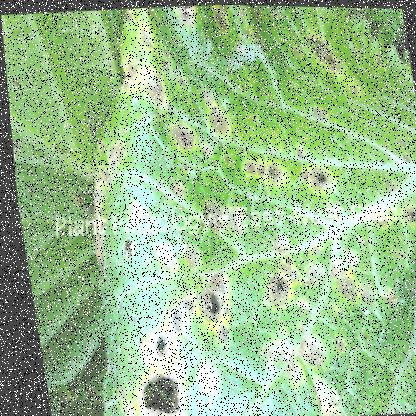AlternariaBrassicicola: (235, 146, 287, 189), (291, 151, 340, 193), (254, 263, 293, 311), (285, 326, 325, 368), (201, 94, 230, 140), (163, 118, 195, 152), (353, 274, 380, 312), (325, 271, 357, 303), (173, 237, 198, 271), (393, 196, 415, 230), (263, 227, 291, 253)
